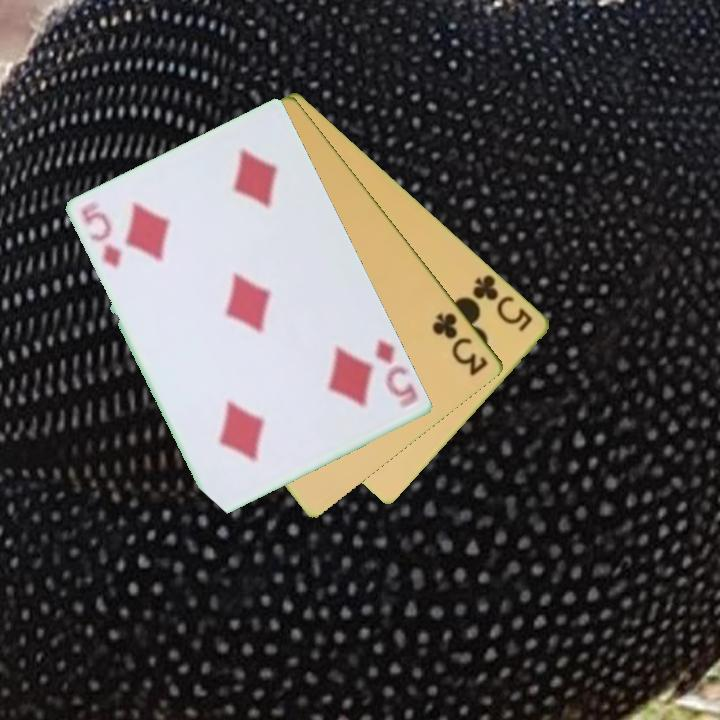3c: (429, 309, 492, 379)
5c: (469, 271, 537, 335)
5d: (372, 335, 422, 411), (78, 205, 125, 272)
